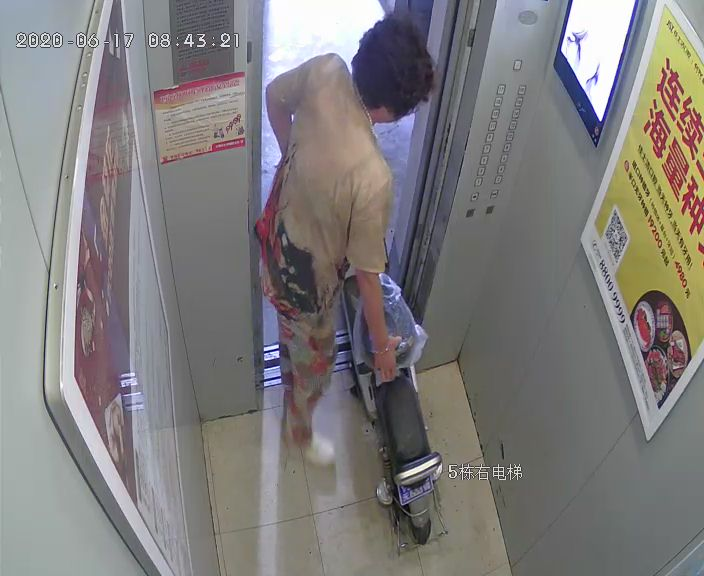Electric-bicycle: (339, 251, 448, 551)
